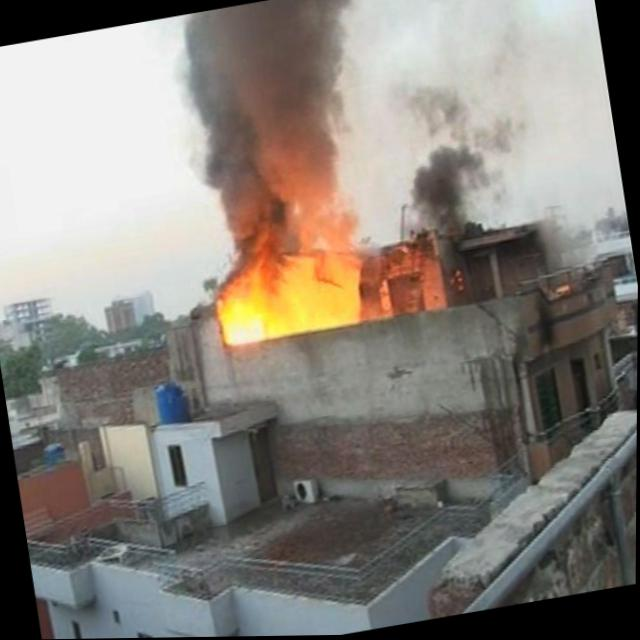fire: (214, 289, 286, 355)
